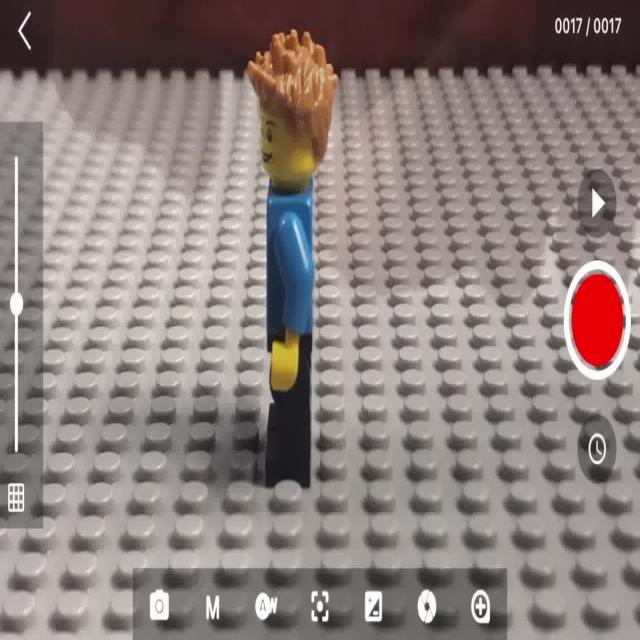4: (275, 231, 309, 390)
hand: (248, 39, 336, 488)
